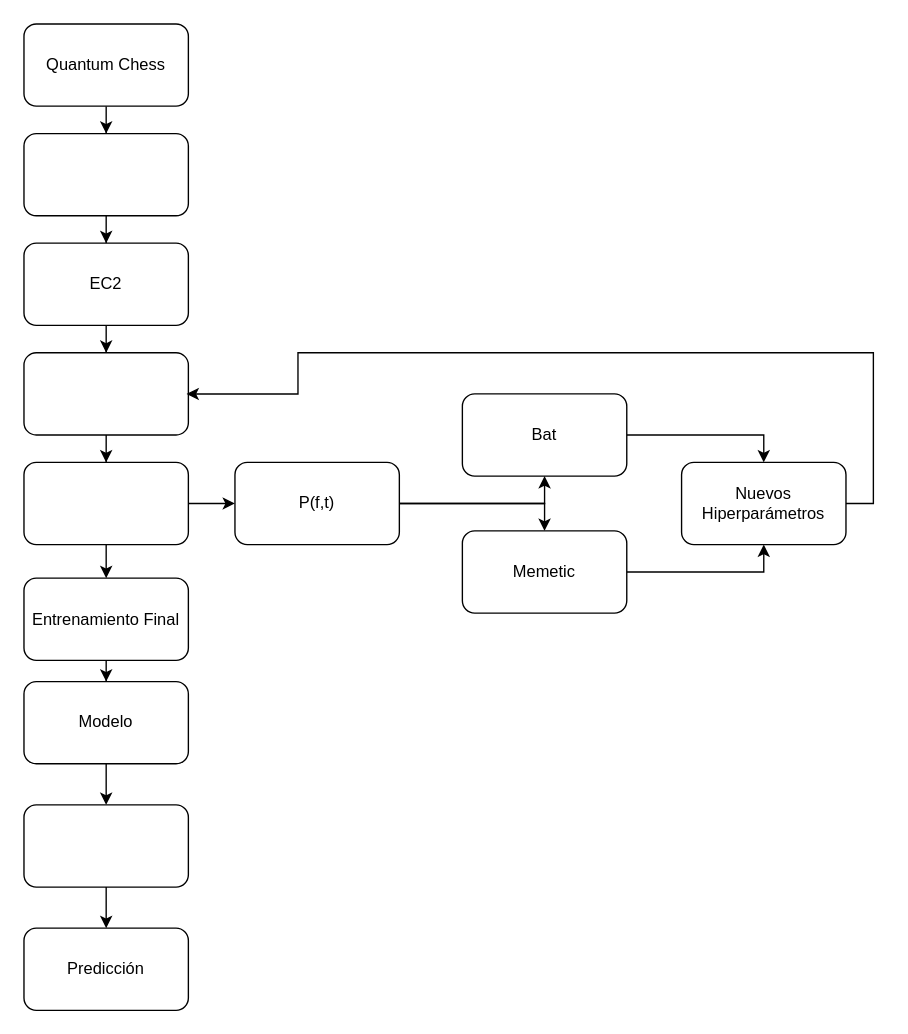
The diagram is 908 pixels wide and 1034 high, and some of its shapes have lost their labels. The centre of each missing label's shape, as x and y in pixels:
"Función Calor" belongs at point (105, 845).
"Monte Carlo Tree Search" belongs at point (105, 174).
"Multi Layer Neural Network" belongs at point (105, 393).
"Simulated Bat Memetic Annealing" belongs at point (105, 503).
